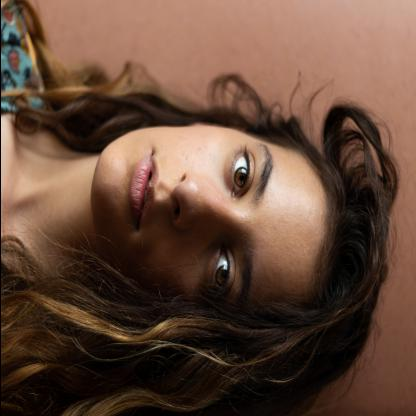Eye: (205, 242, 235, 304), (225, 146, 255, 198)
Mouth: (129, 150, 158, 234)
Nose: (168, 173, 234, 232)
